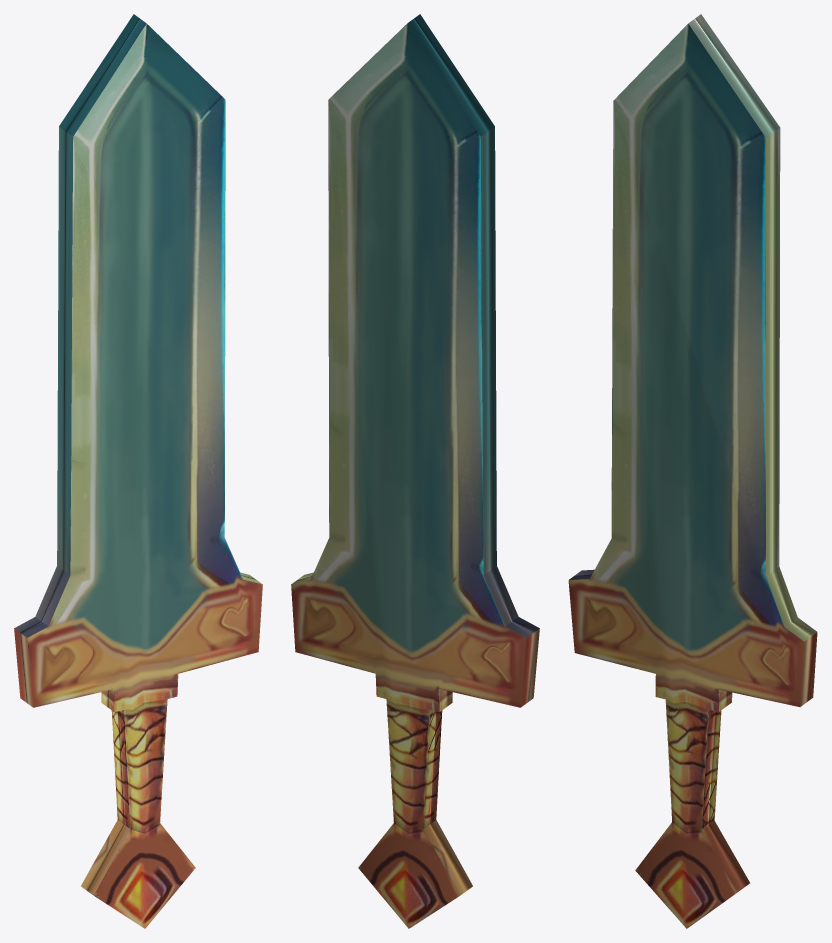
The model's file is EmeraldSword.fbx.
3 views of the same model, side by side, from view 1: azimuth 30°, elevation 25°; view 2: azimuth 150°, elevation 25°; view 3: azimuth 330°, elevation 25° (orthographic).
Parts seen in each view (by area): view 1: Cube; view 2: Cube; view 3: Cube.
Boxes of the visible parts, bbox=[...] form: Cube: bbox=[14, 14, 262, 928]; Cube: bbox=[291, 14, 539, 928]; Cube: bbox=[568, 14, 817, 928].
Size of the model in its own units: 136 by 501 by 14.28.
